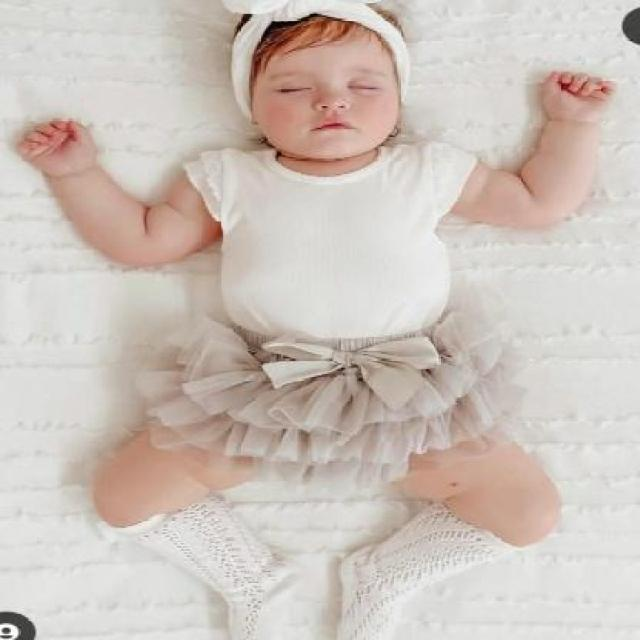baby: (9, 1, 616, 624)
